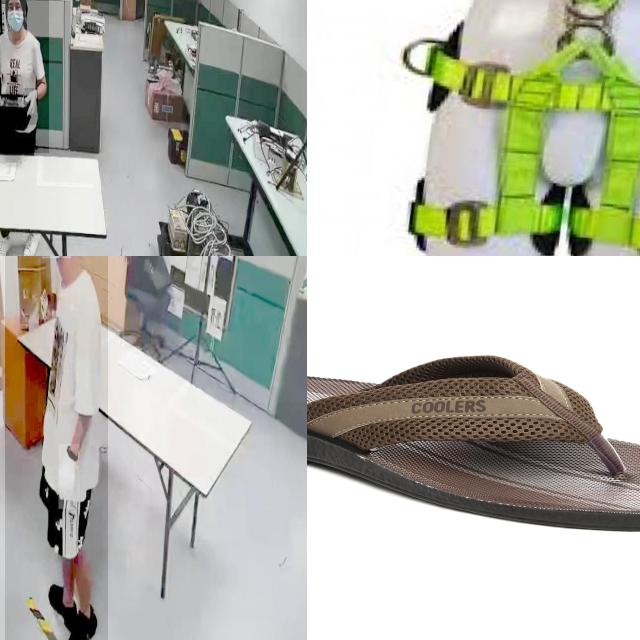Harness: (404, 0, 640, 252)
Sandals: (307, 353, 640, 534)
face_mask: (4, 0, 26, 39)
hand_glove: (58, 444, 80, 510), (24, 88, 38, 126)
person: (5, 256, 108, 640), (0, 0, 49, 153)
shoes: (58, 590, 102, 640), (45, 574, 77, 627), (22, 227, 39, 256), (0, 227, 12, 256)
